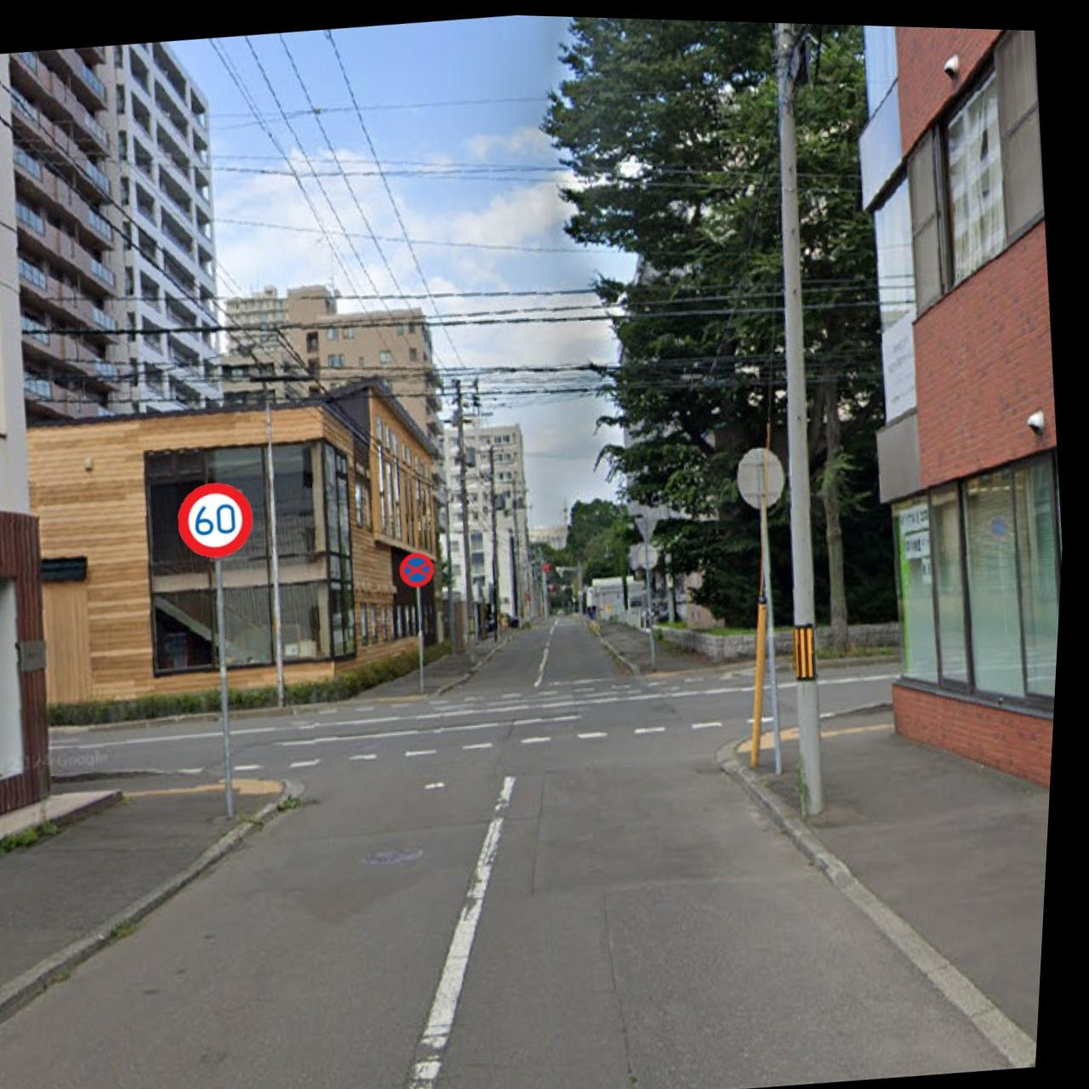stop_sign: (391, 540, 438, 592)
